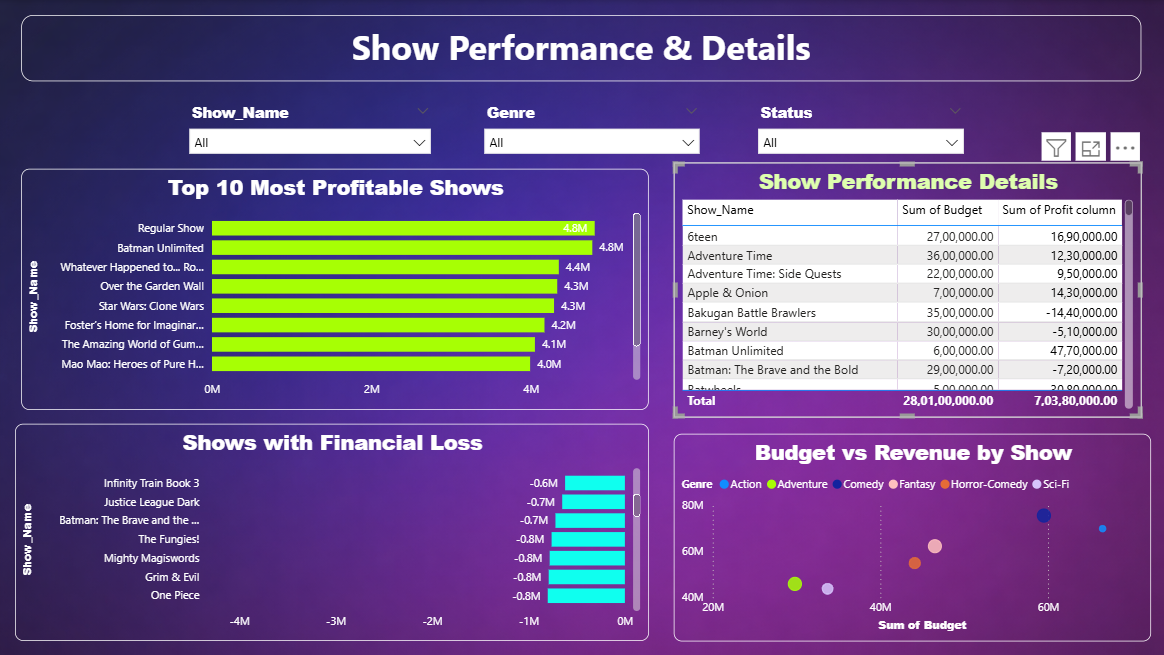

The page's visual inventory and layout, read from the dashboard file:
{"tool":"powerbi","page":{"name":"Page 2","canvas":[1280,720],"ordinal":1},"visuals":[{"type":"textbox","box":[23.3,16.5,1229.5,72.7],"z":0},{"type":"slicer","fields":{"Values":["cartoon network.Show_Name"]},"box":[197.6,107,285.4,65.9],"z":1000},{"type":"clusteredBarChart","title":"Top 10 Most Profitable Shows","fields":{"Category":["cartoon network.Show_Name"],"Y":["cartoon network.Profit_measure"]},"box":[23.3,185.2,688.9,264.8],"z":2000},{"type":"clusteredBarChart","title":"Shows with Financial Loss","fields":{"Category":["cartoon network.Show_Name"],"Y":["cartoon network.Profit_measure"]},"box":[16.5,465.2,695.7,238.8],"z":3000},{"type":"slicer","fields":{"Values":["cartoon network.Genre"]},"box":[521.4,107,256.6,65.9],"z":4000},{"type":"slicer","fields":{"Values":["cartoon network.Status"]},"box":[822,107,245.6,65.9],"z":5000},{"type":"scatterChart","title":"Budget vs Revenue by Show","fields":{"X":["Sum(cartoon network.Budget)"],"Y":["Sum(cartoon network.Revenue)"],"Series":["cartoon network.Genre"],"Size":["Sum(cartoon network.PROFIT)"]},"box":[739.6,476.2,524.2,227.8],"z":6000},{"type":"tableEx","title":"Show Performance Details","fields":{"Values":["cartoon network.Show_Name","Sum(cartoon network.Budget)","Sum(cartoon network.PROFIT)"]},"box":[739.6,178.4,513.2,279.9],"z":7000}]}

Visuals, with their boxes in screenshot pixels (x1, y1, x2, y2), scaled from the page's 1280x720 canvas onto the 1164x655 screenshot:
textbox: [left=21, top=15, right=1139, bottom=81]
slicer - cartoon network.Show_Name: [left=180, top=97, right=439, bottom=157]
"Top 10 Most Profitable Shows" clusteredBarChart: [left=21, top=168, right=648, bottom=409]
"Shows with Financial Loss" clusteredBarChart: [left=15, top=423, right=648, bottom=640]
slicer - cartoon network.Genre: [left=474, top=97, right=707, bottom=157]
slicer - cartoon network.Status: [left=748, top=97, right=971, bottom=157]
"Budget vs Revenue by Show" scatterChart: [left=673, top=433, right=1149, bottom=640]
"Show Performance Details" tableEx: [left=673, top=162, right=1139, bottom=417]
